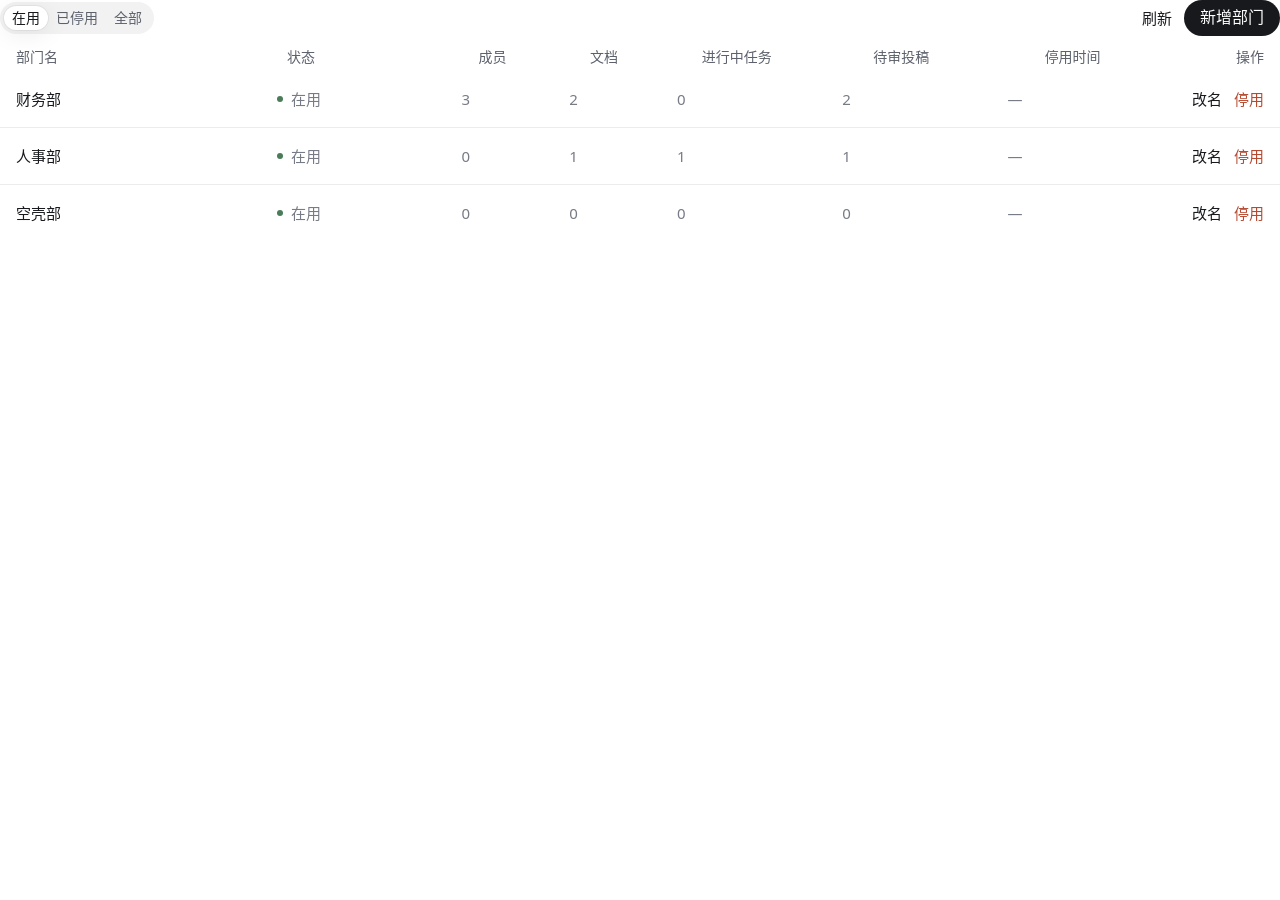
新增部门与幂等键语义 › 空名称禁用确认；创建成功新行自列表顶部插入
Check: the text "财务部" is shown, box [16,89,61,109]
Click the button "新增部门" at (1232, 18), box [1184,0,1279,36]
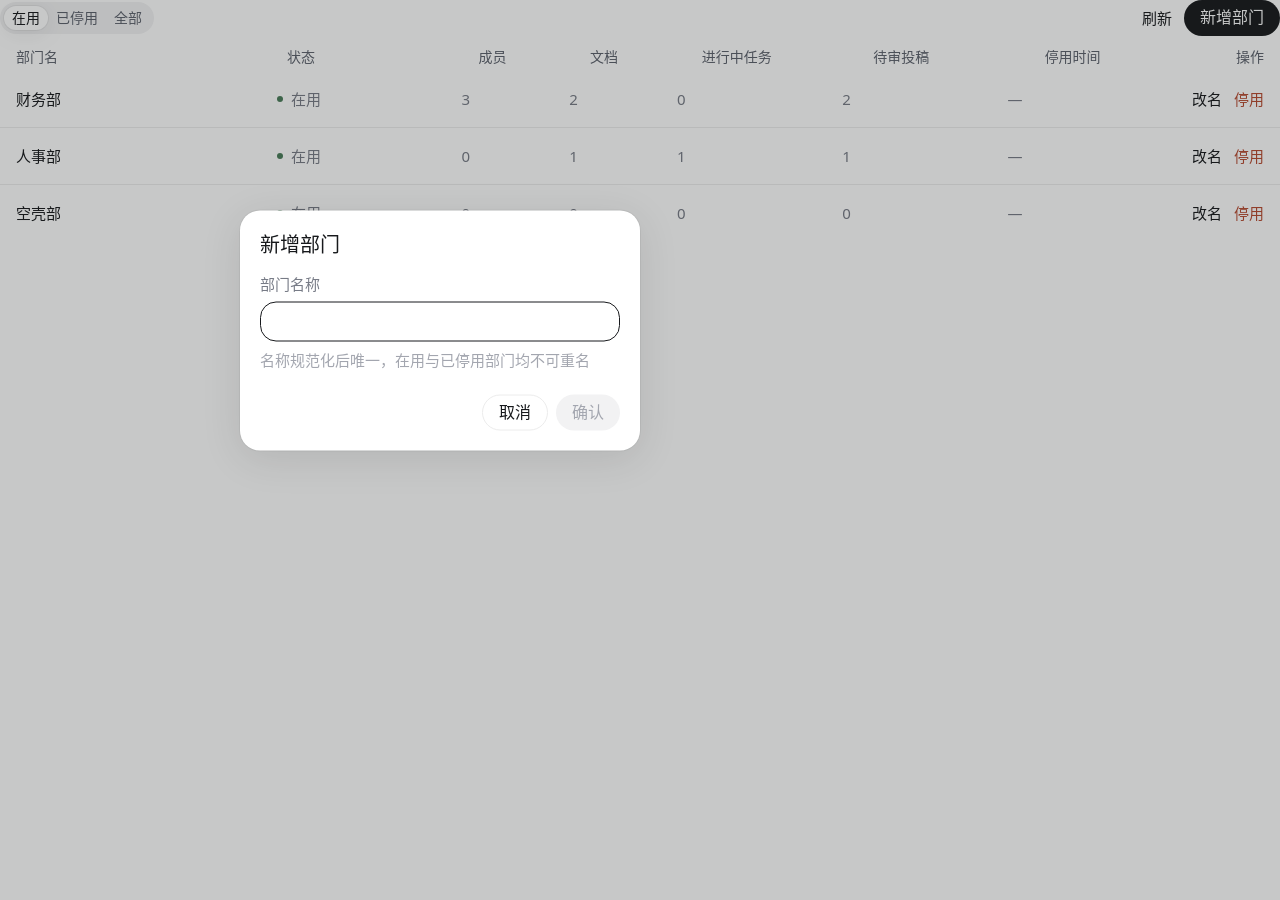
Check: the button "确认" is disabled, box [556,394,620,430]
Type "战略部" into the field labelled "部门名称" at (440, 322), box [260,302,620,342]
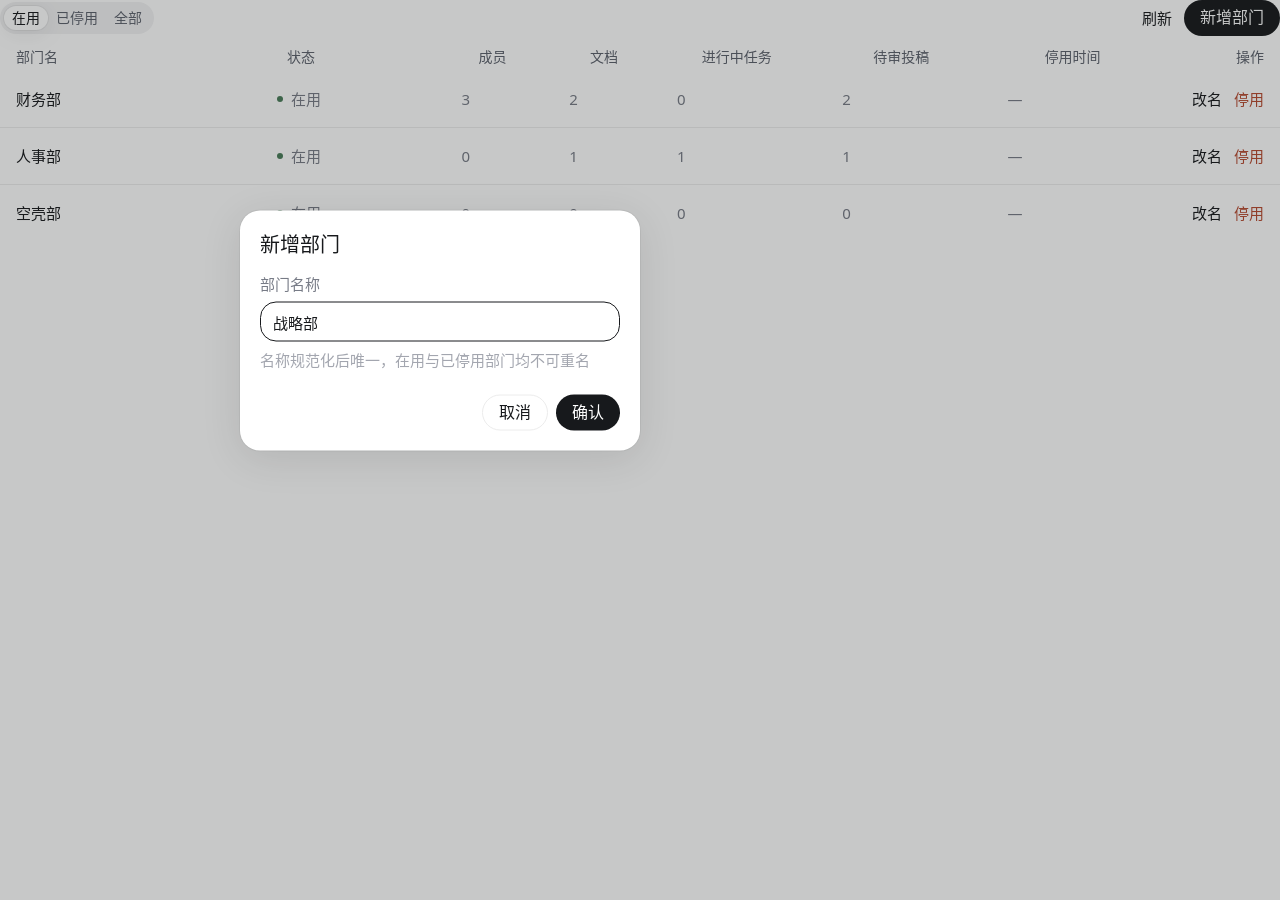
Check: the button "确认" is enabled
Click the button "确认" at (588, 412), box [556,394,620,430]
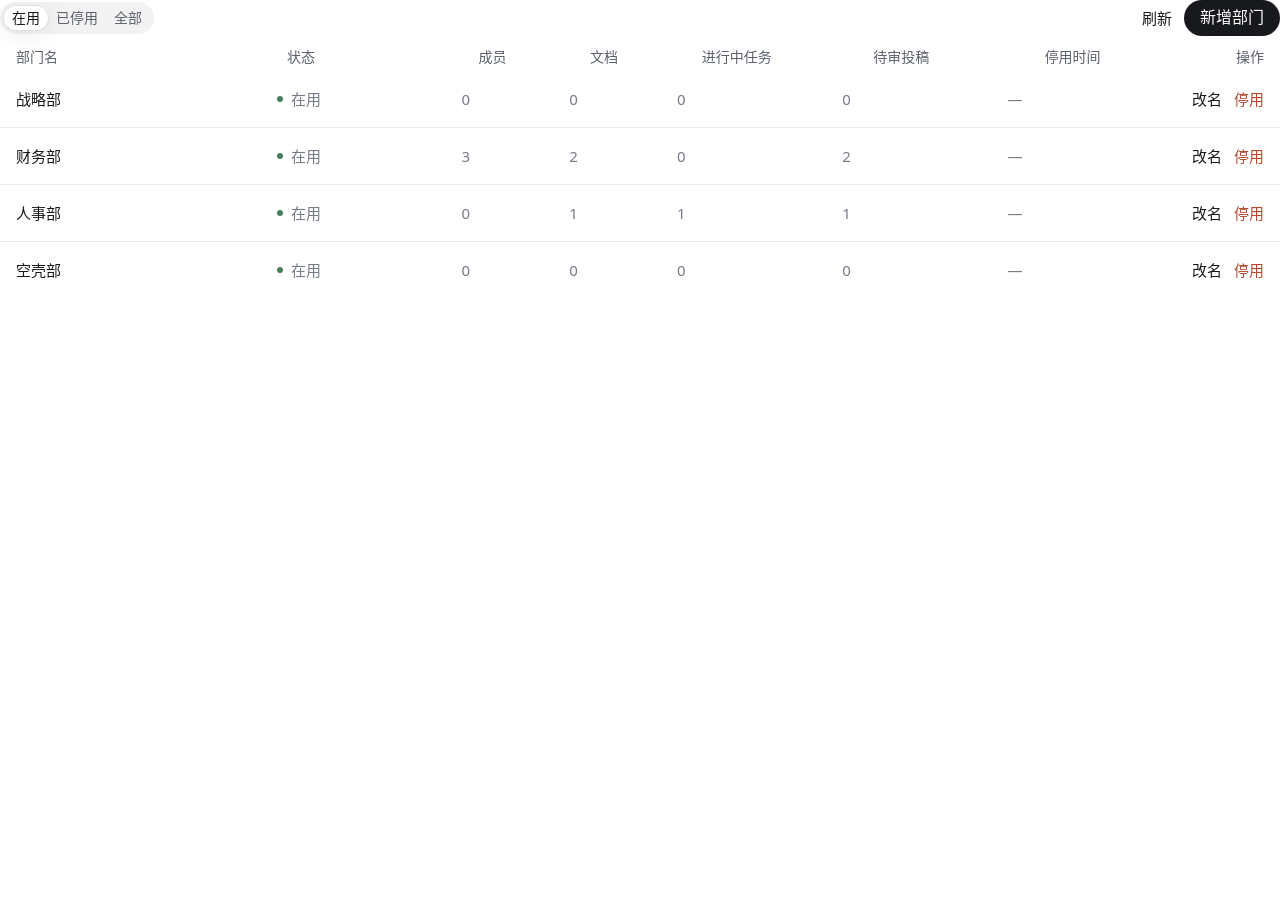
Check: the dialog is gone
Check: the text "战略部" is shown, box [16,89,61,109]
